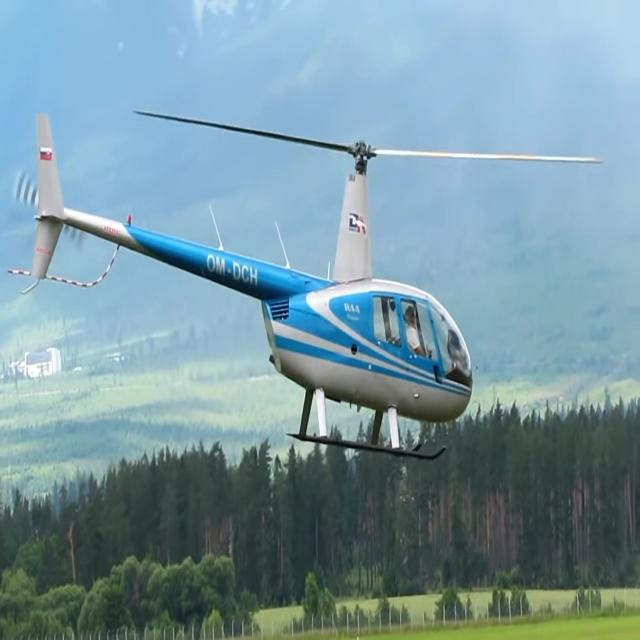CIV_HELO: (30, 109, 474, 462)
